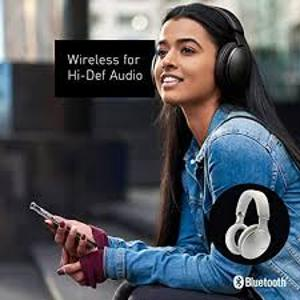Headphones: (151, 5, 250, 94)
